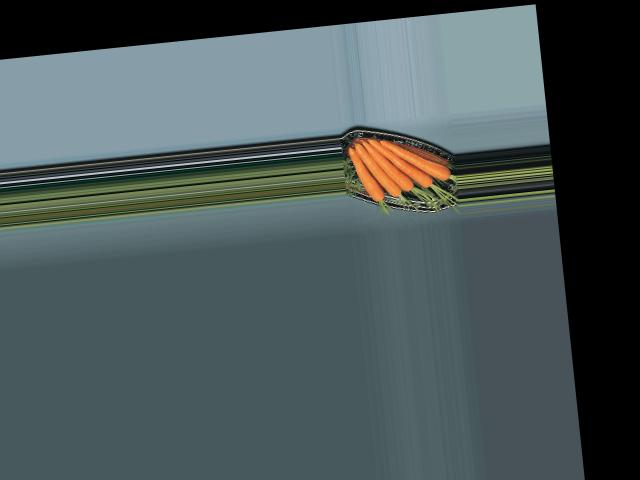carrot: (346, 144, 380, 204)
